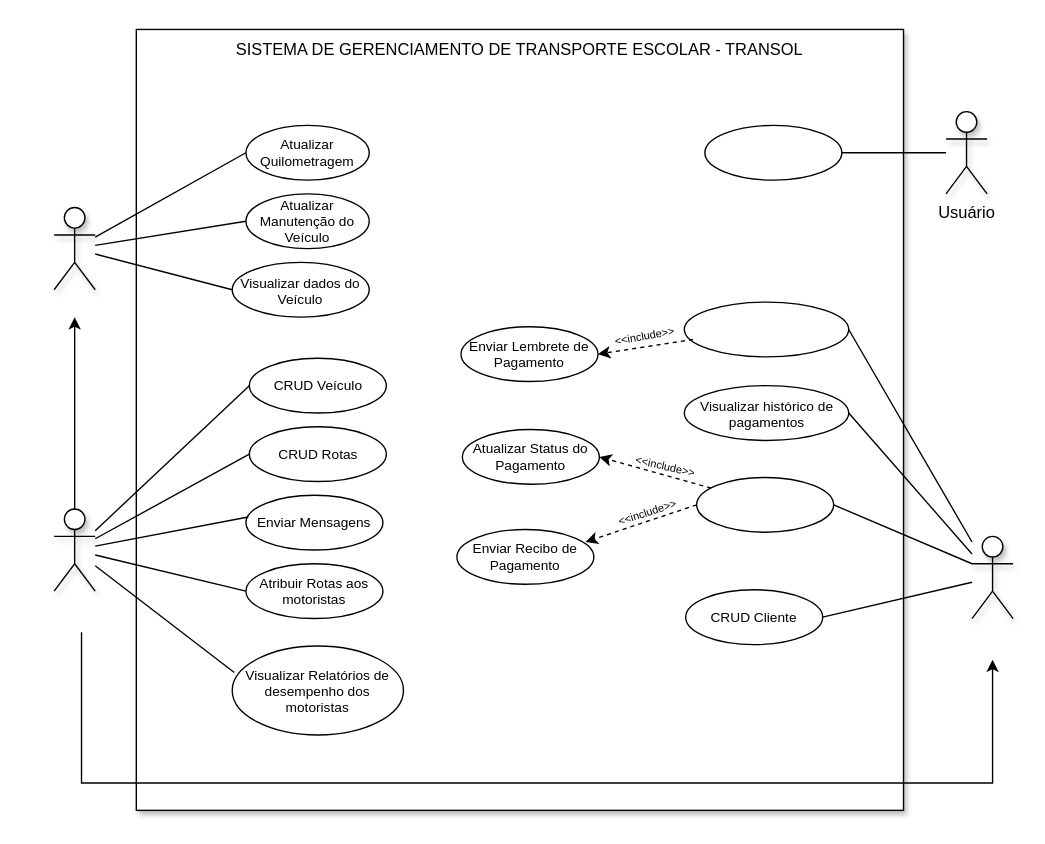
The diagram is 1045 pixels wide and 844 high, and some of its shapes have lost their labels. The centre of each missing label's shape, as x and y in pixels:
"Administrador" belongs at (x=75, y=551).
"Cliente" belongs at (x=993, y=579).
"Enviar mensagens para o Administrador" belongs at (x=772, y=152).
"Motorista" belongs at (x=75, y=250).
"Upload comprovante de pagamento" belongs at (x=764, y=504).
"Upload Contrato" belongs at (x=766, y=329).
